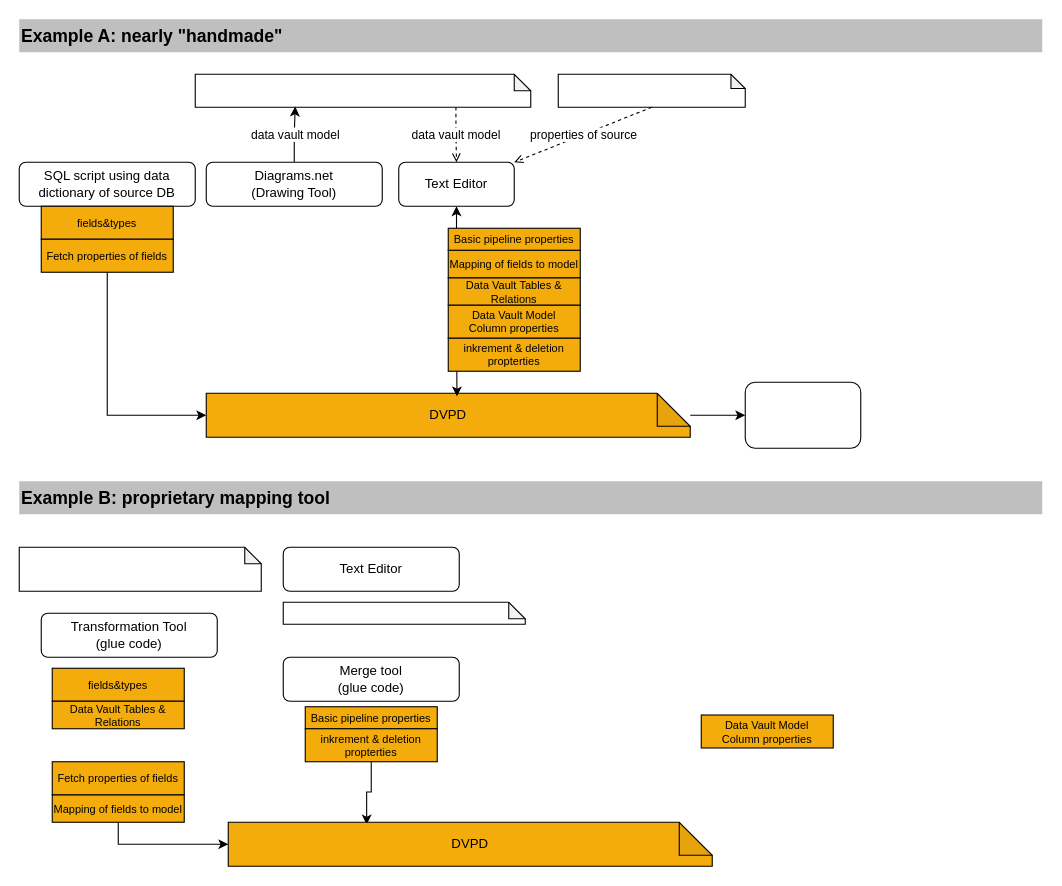
Image size: 1062x886. Some labels were removed from this diagram. The centre of each missing label's shape, as x and y in pixels:
DVPD Compiler: the point at 802,414
Model Documentation: the point at 362,90
Pipeline properties: the point at 403,612
Source Specification: the point at 651,90
Specification Excel Sheet: the point at 139,568
